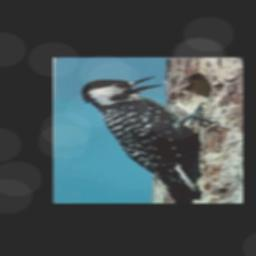Woodpecker: (75, 74, 219, 203)
